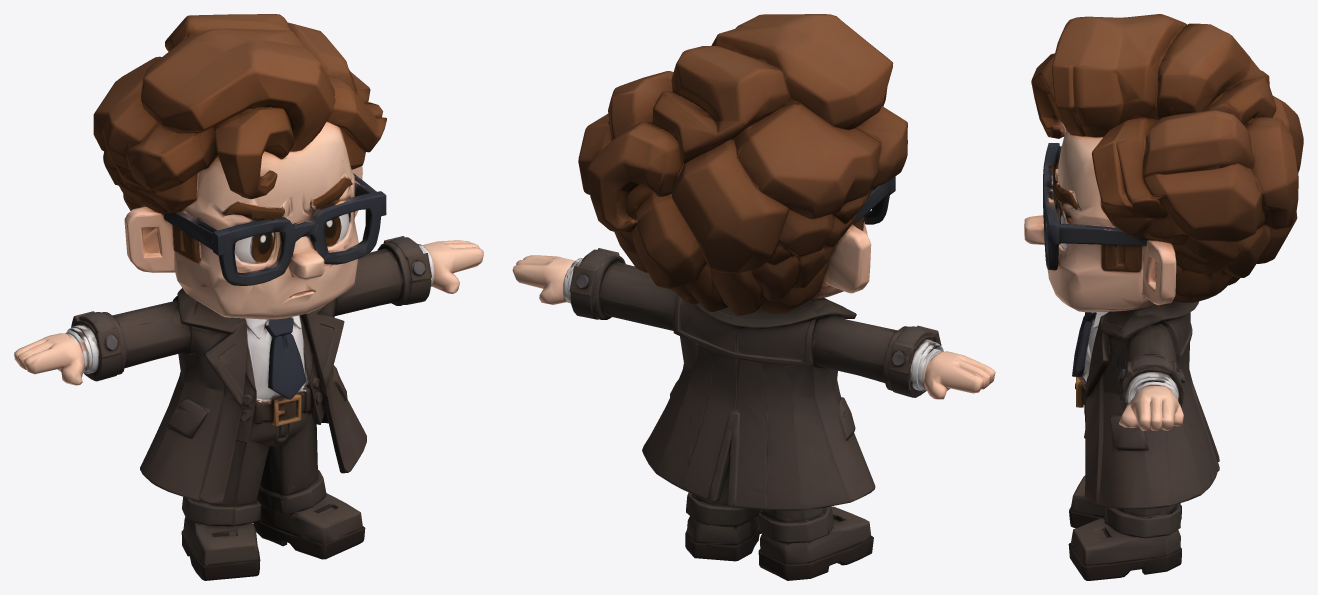
File: alastor_gamma_30k_2k.glb
3 views of the same model, side by side, from view 1: azimuth 30°, elevation 25°; view 2: azimuth 150°, elevation 25°; view 3: azimuth 270°, elevation 25° (orthographic). The views are drawn at different scales.
Size of the model in its own units: 1.04 by 1.11 by 0.548.
1 material, 1 textured.
